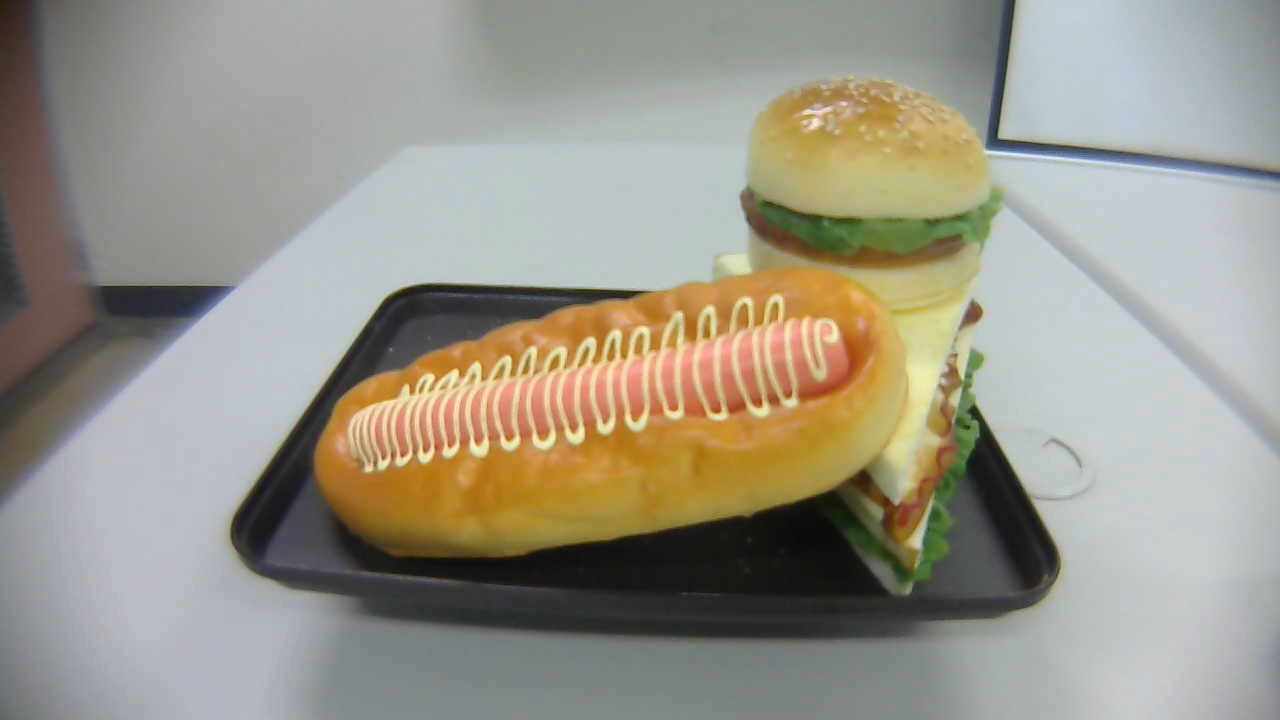hamburger: (740, 76, 1000, 307)
hot dog: (315, 264, 906, 563)
sandwich: (711, 244, 987, 598)
